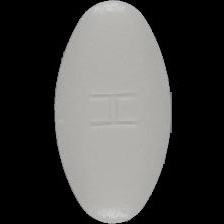31722-531: (0, 0, 224, 224)
